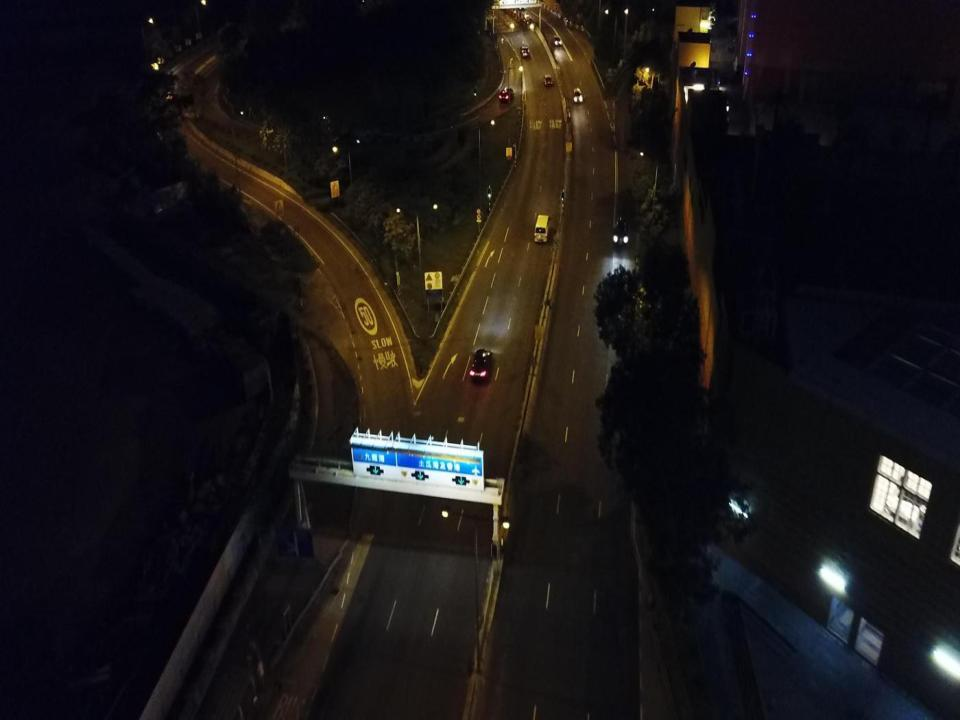car: (469, 348, 493, 383), (612, 217, 628, 246), (499, 86, 514, 103), (574, 88, 582, 105), (165, 90, 174, 100), (553, 34, 561, 44), (516, 3, 524, 11)
van: (534, 215, 550, 243), (544, 74, 552, 88), (520, 45, 528, 58)
